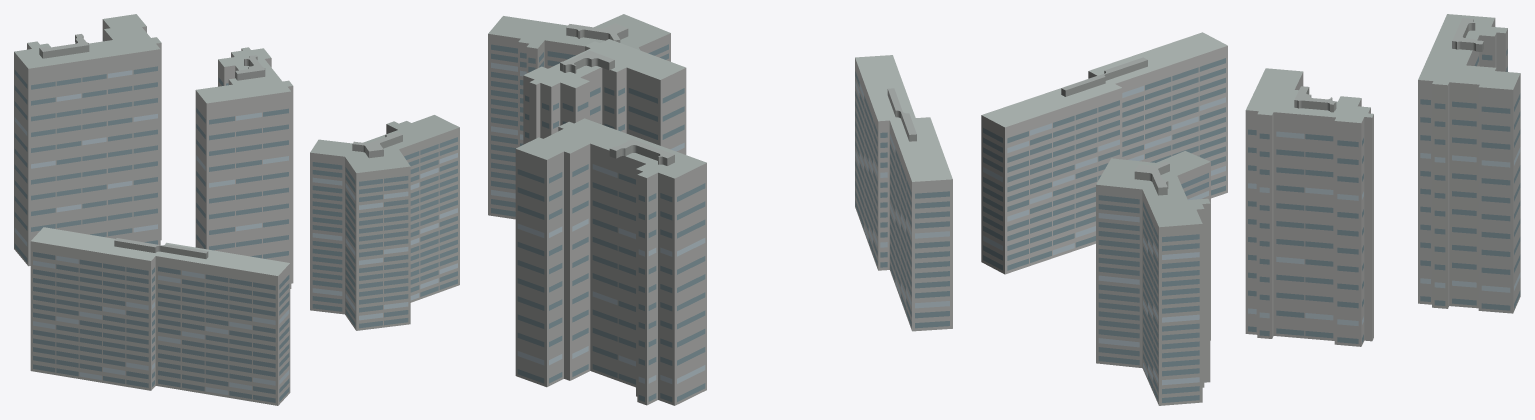
The model's file is apt-a10026299.glb.
The picture shows the model from 3 angles, left to right: view 1: azimuth 30°, elevation 25°; view 2: azimuth 150°, elevation 25°; view 3: azimuth 270°, elevation 25°; orthographic projection. The views are drawn at different scales.
Visible parts, largest first — view 1: apt-a10026299; view 2: apt-a10026299; view 3: apt-a10026299.
Boxes of the visible parts, x1,y1,x2,y2 form: apt-a10026299: [14, 14, 459, 405]; apt-a10026299: [488, 14, 952, 405]; apt-a10026299: [981, 14, 1520, 405].
Size of the model in its own units: 151 by 72 by 152.
